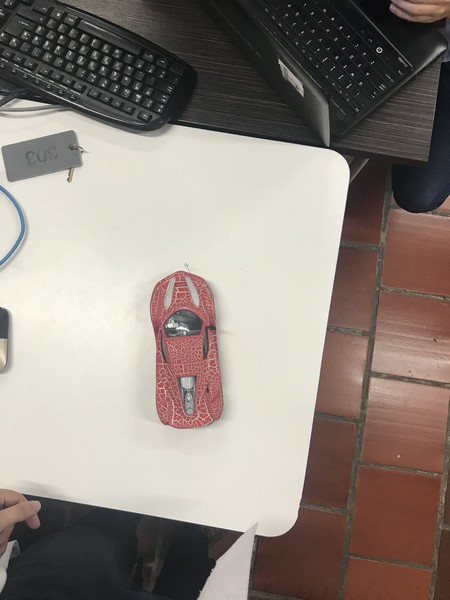RC: (148, 268, 227, 431)
